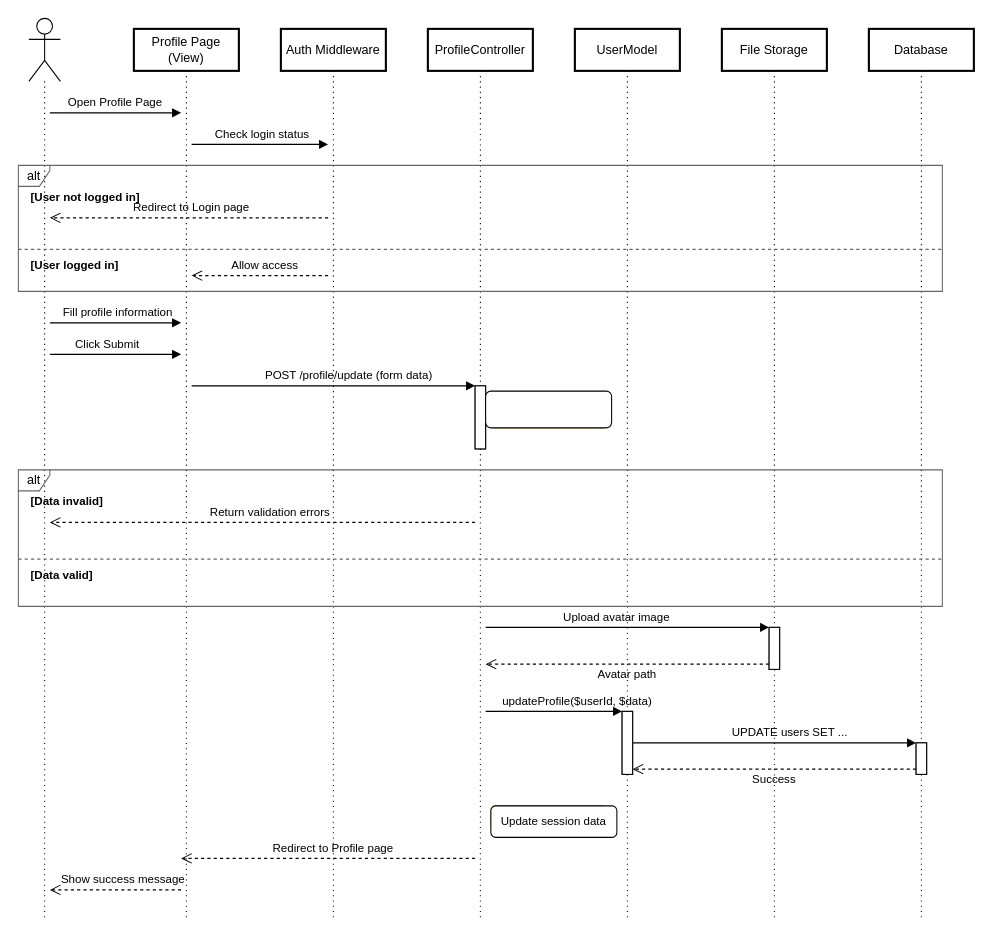
Image size: 993x941. Some labels were removed from this diagram. The box of each missing label's shape, as (x1, y1, x2, y2) in pixels:
User: (28, 17, 60, 81)
Validate input data: (485, 390, 612, 428)
